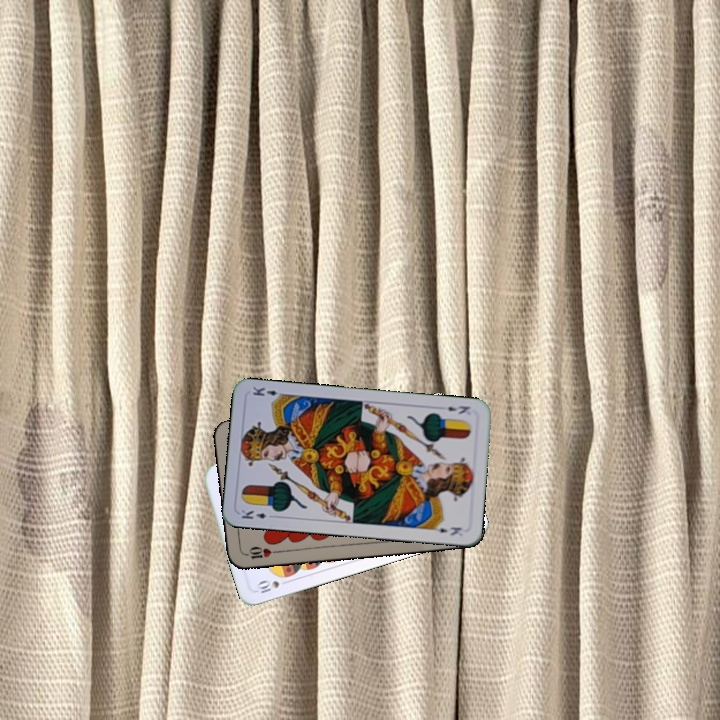EK: (237, 506, 278, 522), (443, 402, 472, 417)
H10: (240, 543, 281, 561)
S10: (253, 576, 292, 598)
